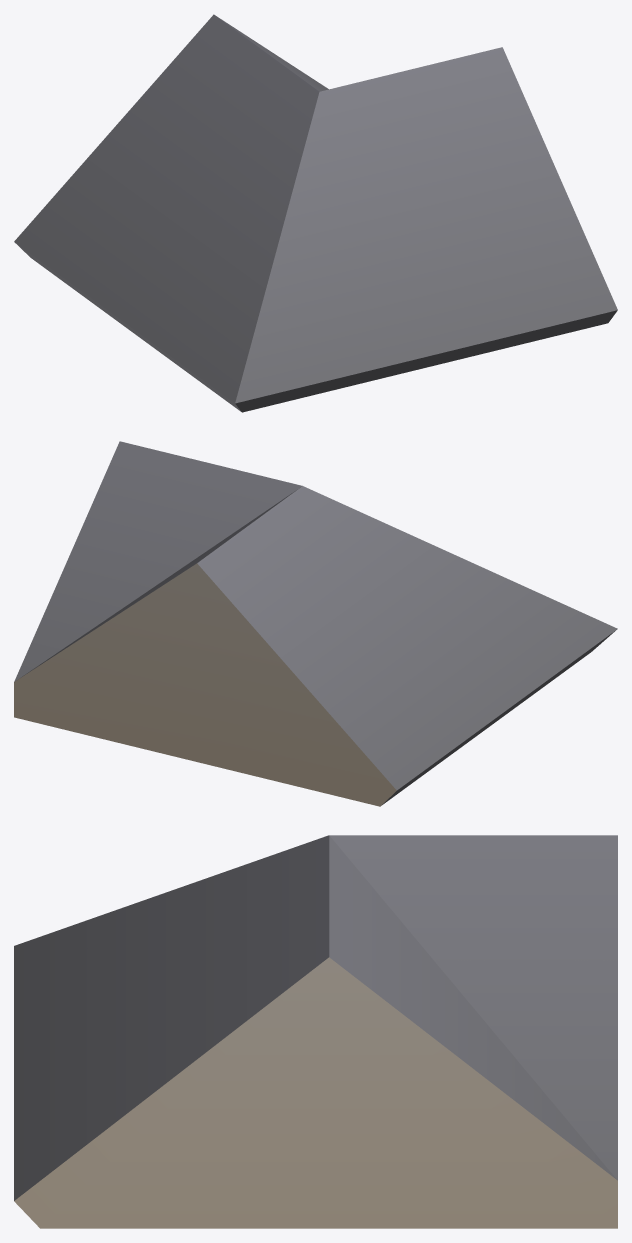
File: roof-gable-corner.glb
3 renders of one model, top to bottom at view 1: azimuth 30°, elevation 25°; view 2: azimuth 150°, elevation 25°; view 3: azimuth 270°, elevation 25°, orthographic. The views are drawn at different scales.
Visible parts, largest first — view 1: roof-gable-corner; view 2: roof-gable-corner; view 3: roof-gable-corner.
Boxes of the visible parts, box(x1,y1,x2,y2) form: roof-gable-corner: box(14, 14, 617, 412); roof-gable-corner: box(14, 441, 617, 806); roof-gable-corner: box(14, 835, 617, 1228).
Bounding box in the file's own units: 1.05 × 0.5188 × 1.05.
